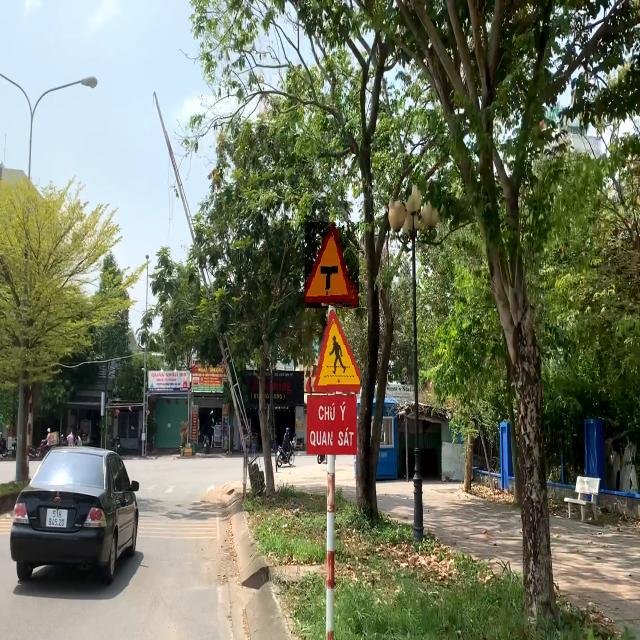W-205d: (305, 222, 359, 308)
W-224: (302, 309, 360, 395)
